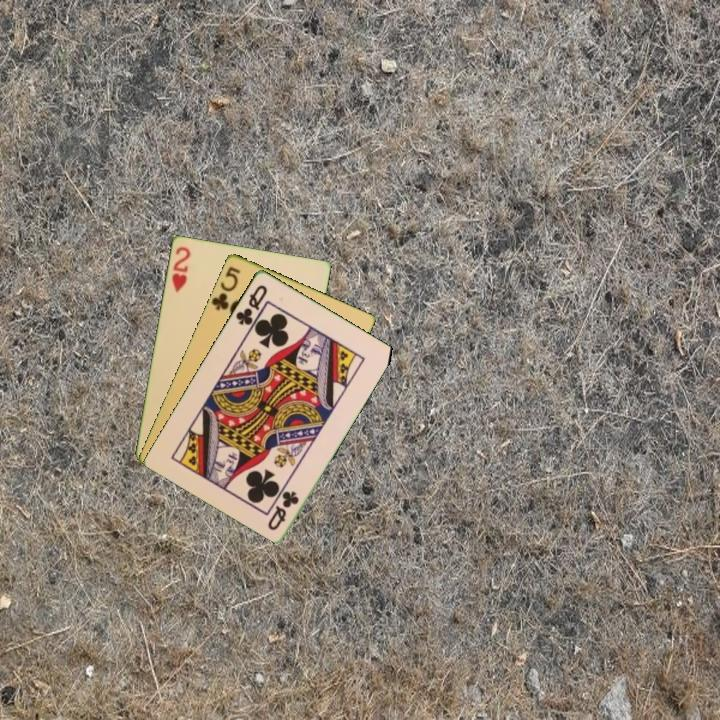2h: (168, 243, 193, 295)
5c: (208, 262, 243, 313)
Qc: (232, 281, 270, 328), (264, 487, 302, 533)
